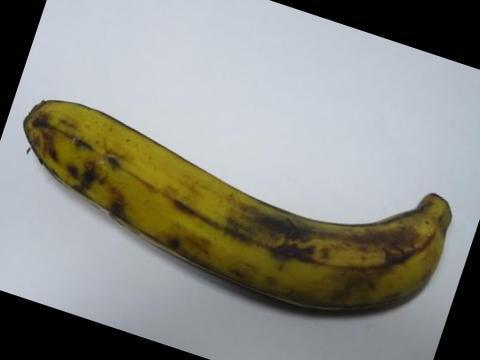overripe: (12, 87, 462, 323)
